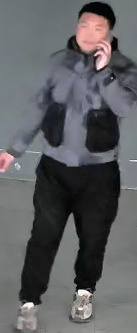phone: (75, 6, 136, 115)
